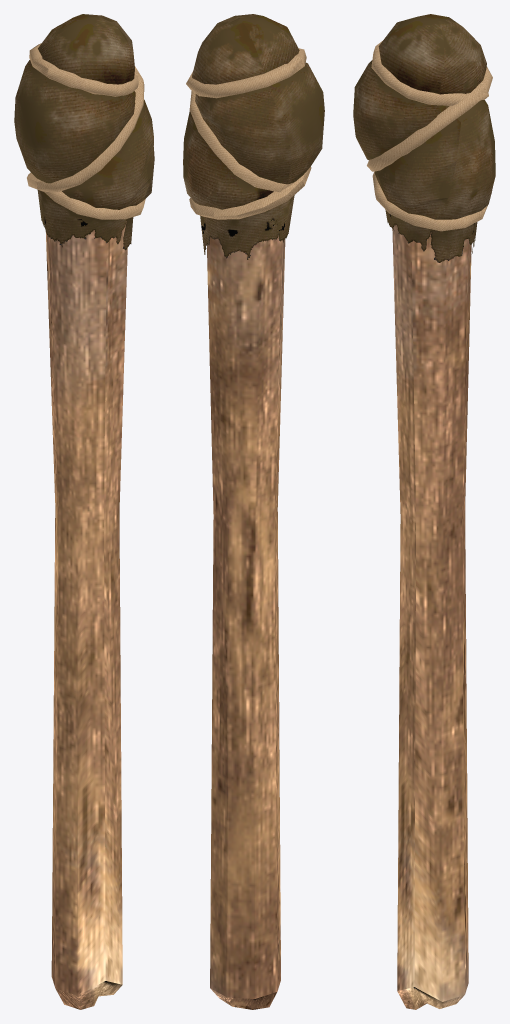
File: Torch_v7.glb
The picture shows the model from 3 angles, left to right: view 1: azimuth 30°, elevation 25°; view 2: azimuth 150°, elevation 25°; view 3: azimuth 330°, elevation 25°; orthographic projection.
Parts seen in each view (by area): view 1: Torch; view 2: Torch; view 3: Torch.
Part boxes in pixels (x1,y1,x2,y2): Torch: [14, 14, 154, 1009]; Torch: [183, 14, 324, 1009]; Torch: [353, 14, 495, 1009].
Size of the model in its own units: 0.232 by 1.76 by 0.2153.
1 material, 1 textured.
